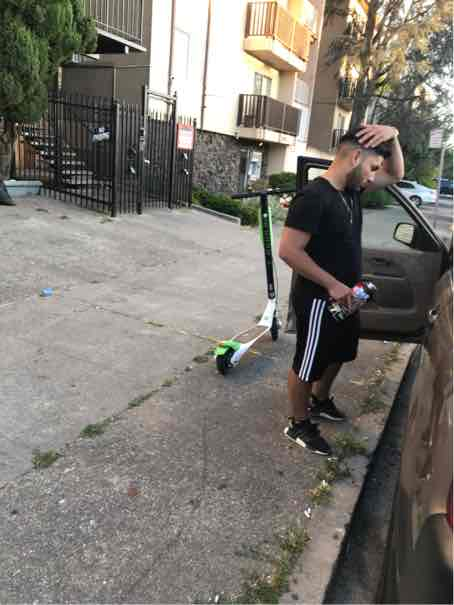scooter: (209, 169, 288, 384)
